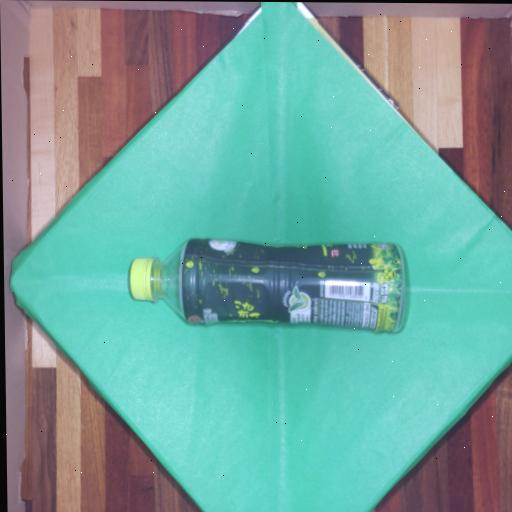bottle: (128, 238, 407, 328)
